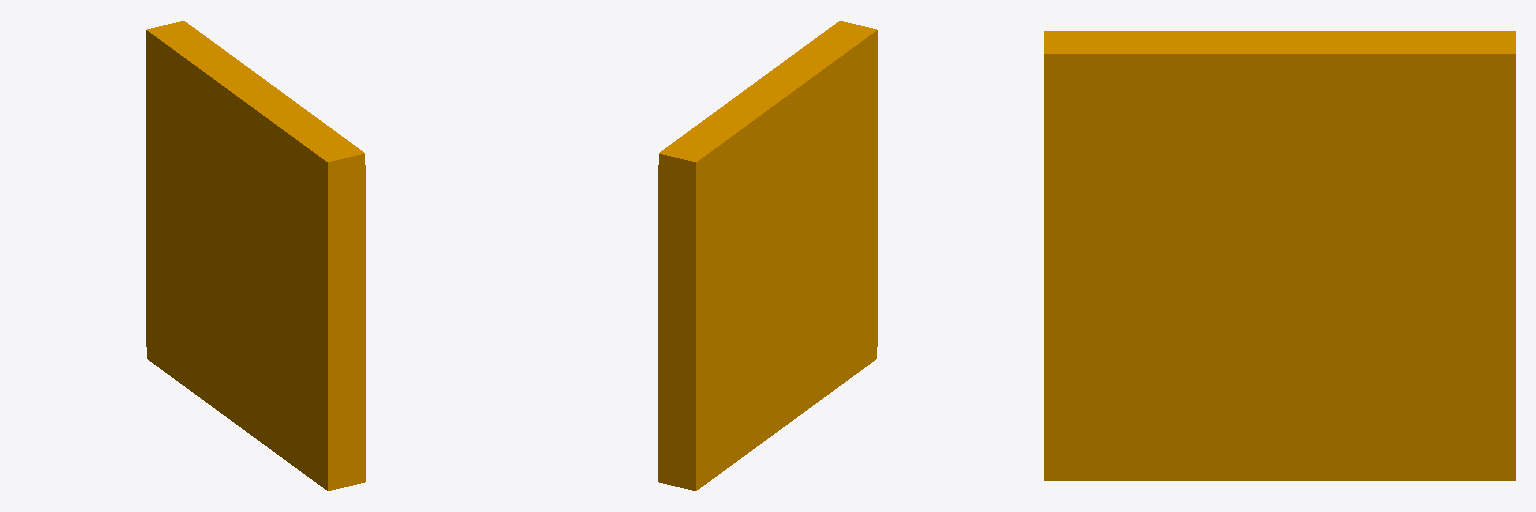
The robot description file, URDF, robot "blue_plane":
<?xml version="1.0"?>
<robot name="blue_plane">

<link name="base_link">
  <collision>
    <origin xyz="0 0 1.35" rpy="0 1.57 0"/>
    <geometry>
      <box size="0.25 0.25 0.03" />
    </geometry>
  </collision>

  <visual>
    <origin xyz="0 0 1.35" rpy="0 1.57 0"/>
    <geometry>
      <box size="0.25 0.25 0.03" />
    </geometry>
  </visual>

  <inertial>
    <origin xyz="0 0 1.35" rpy="0 0 0" />
    <mass value="0.05" />
    <inertia
      ixx="0.001" ixy="0.0"  ixz="0.0"
      iyy="0.001" iyz="0.0"
      izz="0.001" />
  </inertial>
  </link>

<gazebo reference="base_link">
  <material>Gazebo/Blue</material>
    <mu1>5</mu1>
    <mu2>5</mu2>
</gazebo>

</robot>

--- Render facts (derived) ---
Views: 3 orthographic renders of the robot side by side, from view 1: azimuth 30°, elevation 25°; view 2: azimuth 150°, elevation 25°; view 3: azimuth 270°, elevation 25°.
Model blue_plane with 1 links and 0 joints (none), rooted at base_link, posed all joints at 0.
Visible links, largest first — view 1: base_link; view 2: base_link; view 3: base_link.
Link boxes in pixels (x1,y1,x2,y2): base_link: [146, 21, 365, 490]; base_link: [658, 21, 877, 490]; base_link: [1044, 31, 1515, 480].
Bounding box of the posed robot: 0.0302 × 0.25 × 0.25 m (x, y, z).
Geometry: primitives only (box / cylinder / sphere), no mesh files.
